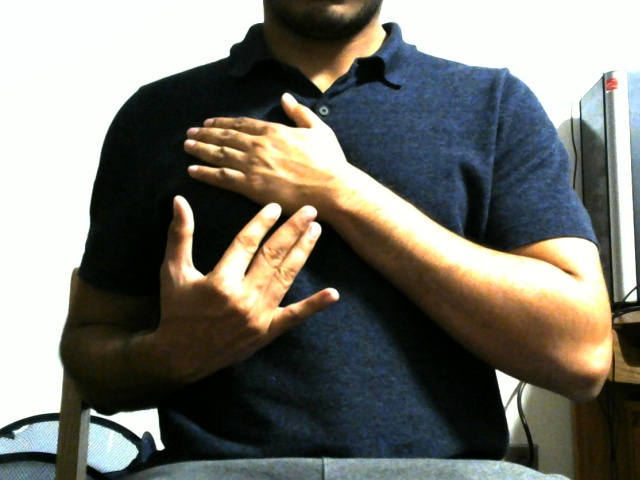blood: (91, 76, 431, 388)
